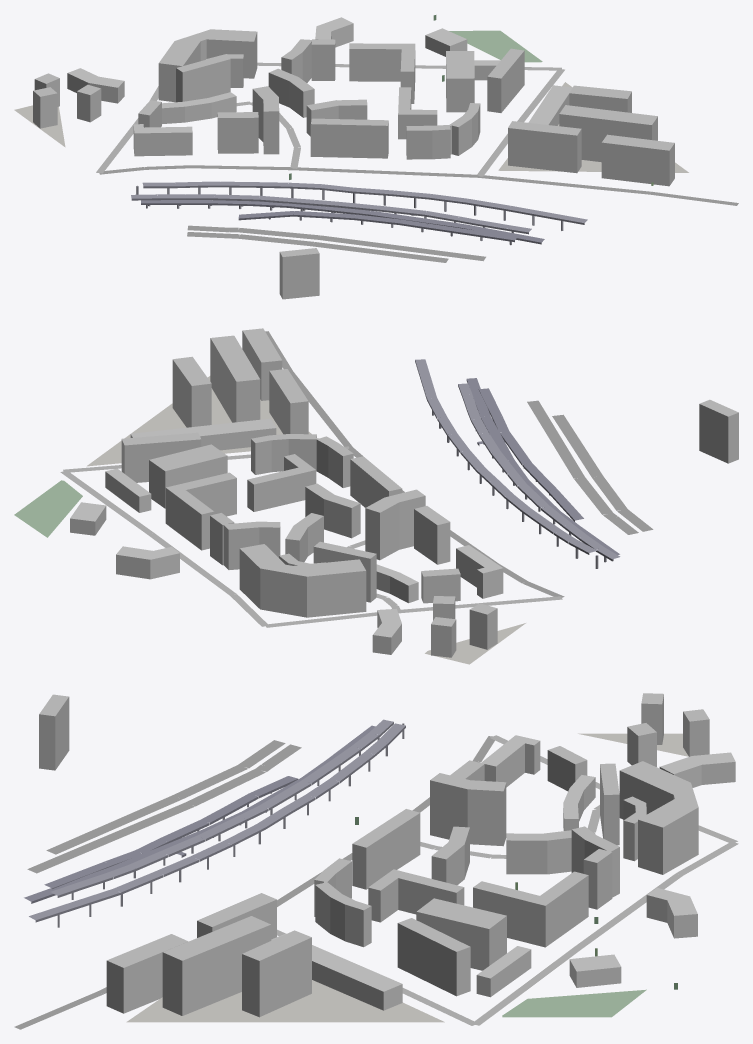
The picture shows the model from 3 angles, top to bottom: view 1: azimuth 30°, elevation 25°; view 2: azimuth 150°, elevation 25°; view 3: azimuth 270°, elevation 25°; orthographic projection. The views are drawn at different scales.
Bounding box in the file's own units: 522 × 51.2 × 546.
